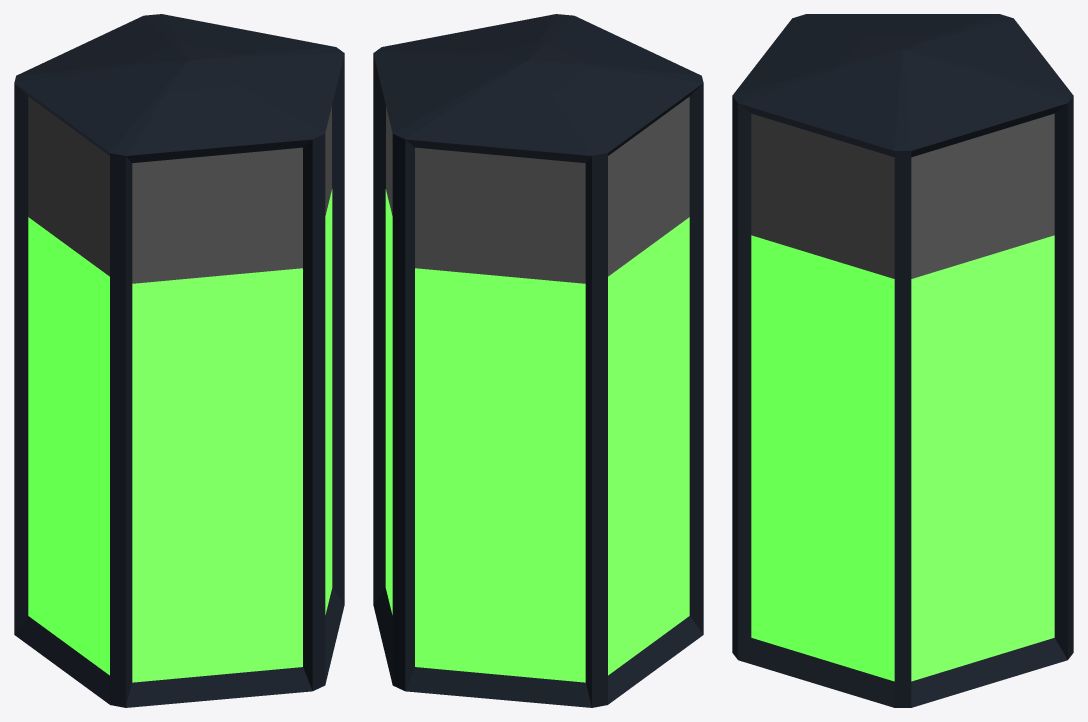
File: greenvatSeethrouhgLiwuid.glb
3 renders of one model, left to right at view 1: azimuth 30°, elevation 25°; view 2: azimuth 150°, elevation 25°; view 3: azimuth 270°, elevation 25°, orthographic.
Visible parts, largest first — view 1: liquid, Cylinder, glass4, glass3, glass5; view 2: liquid, Cylinder, glass2, glass3, glass1; view 3: liquid, Cylinder, glass1, glass5.
Part boxes in pixels (bbox=[...]): liquid: bbox=[28, 189, 332, 682]; Cylinder: bbox=[14, 14, 344, 707]; glass4: bbox=[132, 147, 302, 283]; glass3: bbox=[28, 96, 109, 276]; glass5: bbox=[325, 106, 331, 215]; liquid: bbox=[385, 189, 689, 682]; Cylinder: bbox=[373, 14, 703, 707]; glass2: bbox=[415, 147, 585, 283]; glass3: bbox=[608, 96, 689, 276]; glass1: bbox=[386, 106, 392, 215]; liquid: bbox=[751, 235, 1054, 681]; Cylinder: bbox=[732, 14, 1073, 707]; glass1: bbox=[911, 113, 1054, 278]; glass5: bbox=[751, 113, 894, 278].
Size of the model in its own units: 1.76 by 3.49 by 1.85.
